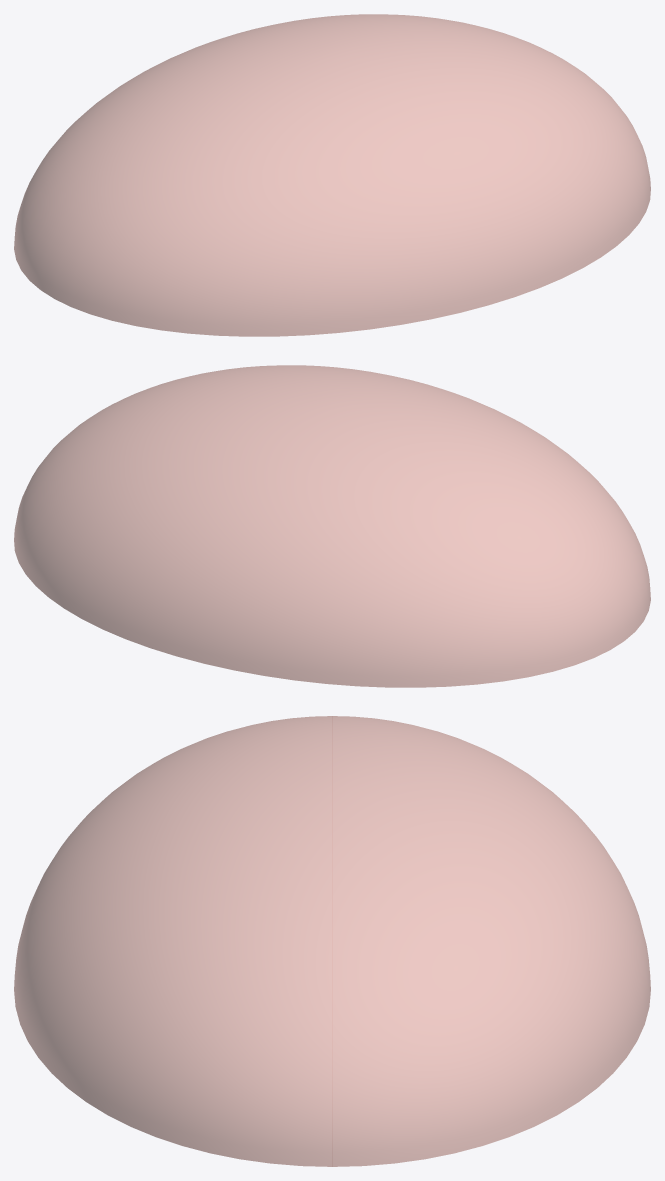
File: carnelian.glb
3 renders of one model, top to bottom at view 1: azimuth 30°, elevation 25°; view 2: azimuth 150°, elevation 25°; view 3: azimuth 270°, elevation 25°, orthographic. The views are drawn at different scales.
Visible parts, largest first — view 1: carnelian; view 2: carnelian; view 3: carnelian.
Boxes of the visible parts, x1,y1,x2,y2 form: carnelian: (14, 14, 650, 336); carnelian: (14, 365, 650, 687); carnelian: (14, 716, 650, 1166).
Size of the model in its own units: 0.25 by 0.0688 by 0.19.
